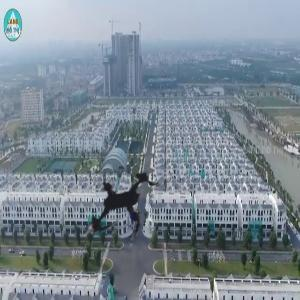drone: (45, 125, 202, 282)
